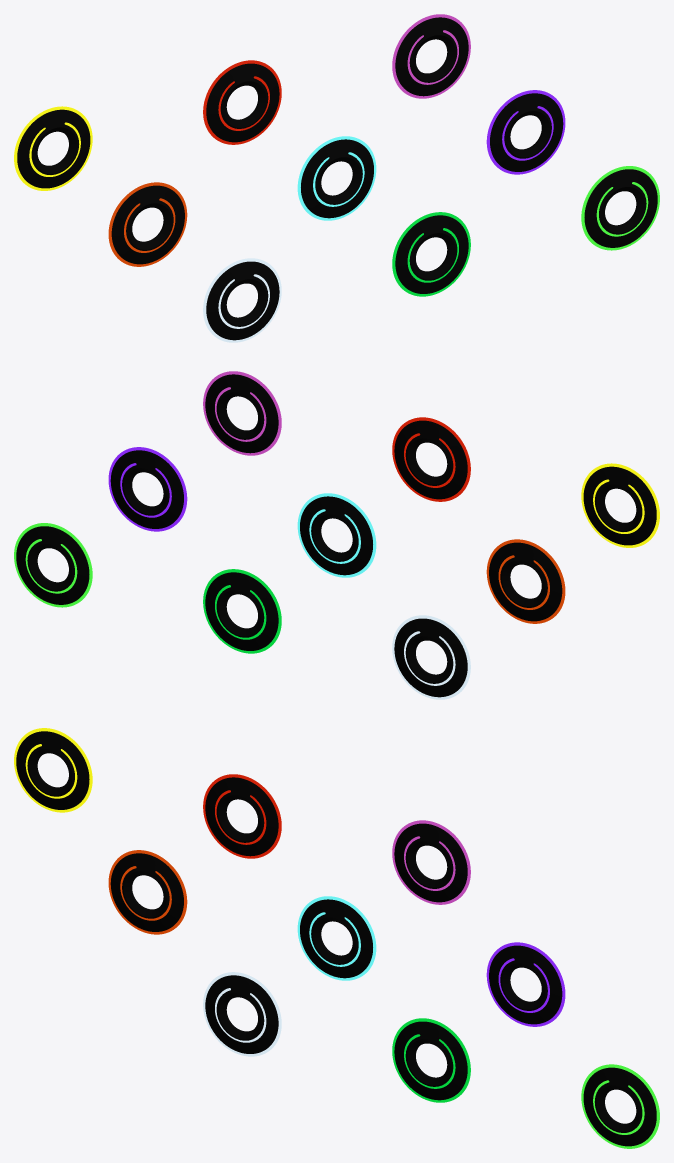
The model's file is TRON Identity Discs (All Colors).fbx.
3 renders of one model, top to bottom at view 1: azimuth 30°, elevation 25°; view 2: azimuth 150°, elevation 25°; view 3: azimuth 330°, elevation 25°, orthographic.
Visible parts, largest first — view 1: Blue Identity Disc, Pink Identity Disc, White Identity Disc, Orange Identity Disc, Purple Identity Disc, Green Identity Disc, Red Identity Disc, Lime Green Identity Disc, Yellow Identity Disc; view 2: Blue Identity Disc, Pink Identity Disc, White Identity Disc, Orange Identity Disc, Purple Identity Disc, Green Identity Disc, Red Identity Disc, Lime Green Identity Disc, Yellow Identity Disc; view 3: Blue Identity Disc, Green Identity Disc, Red Identity Disc, Orange Identity Disc, Purple Identity Disc, Lime Green Identity Disc, Yellow Identity Disc, Pink Identity Disc, White Identity Disc.
Part boxes in pixels (bbox=[...]): Blue Identity Disc: bbox=[297, 136, 376, 220]; Pink Identity Disc: bbox=[392, 14, 470, 98]; White Identity Disc: bbox=[203, 258, 281, 342]; Orange Identity Disc: bbox=[108, 182, 187, 266]; Purple Identity Disc: bbox=[486, 90, 565, 174]; Green Identity Disc: bbox=[392, 212, 470, 296]; Red Identity Disc: bbox=[203, 60, 281, 144]; Lime Green Identity Disc: bbox=[581, 166, 659, 250]; Yellow Identity Disc: bbox=[14, 106, 92, 190]; Blue Identity Disc: bbox=[297, 493, 376, 577]; Pink Identity Disc: bbox=[203, 371, 281, 455]; White Identity Disc: bbox=[392, 615, 470, 699]; Orange Identity Disc: bbox=[486, 539, 565, 623]; Purple Identity Disc: bbox=[108, 447, 187, 531]; Green Identity Disc: bbox=[203, 569, 281, 653]; Red Identity Disc: bbox=[392, 417, 470, 501]; Lime Green Identity Disc: bbox=[14, 523, 92, 607]; Yellow Identity Disc: bbox=[581, 463, 659, 547]; Blue Identity Disc: bbox=[297, 896, 376, 980]; Green Identity Disc: bbox=[392, 1018, 470, 1102]; Red Identity Disc: bbox=[203, 774, 281, 858]; Orange Identity Disc: bbox=[108, 850, 187, 934]; Purple Identity Disc: bbox=[486, 942, 565, 1026]; Lime Green Identity Disc: bbox=[581, 1064, 659, 1148]; Yellow Identity Disc: bbox=[14, 728, 92, 812]; Pink Identity Disc: bbox=[392, 820, 470, 904]; White Identity Disc: bbox=[203, 972, 281, 1056].
Bounding box in the file's own units: 444 × 184 × 6.
